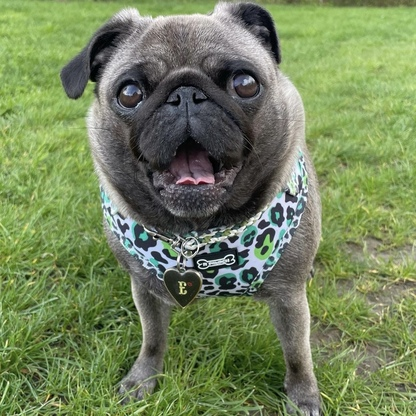Pug: (57, 1, 330, 416)
